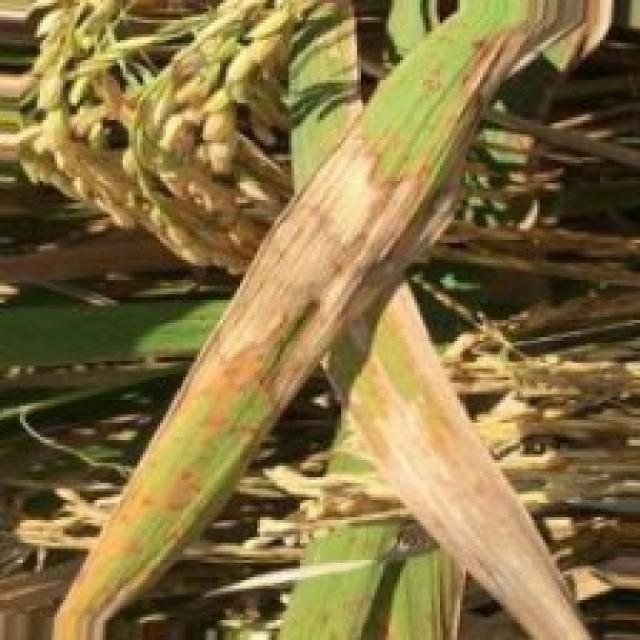Bacterial_Blight: (333, 361, 640, 640), (208, 128, 404, 384), (466, 32, 528, 108)
